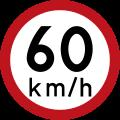Speed Limit -60-: (24, 21, 95, 74)
